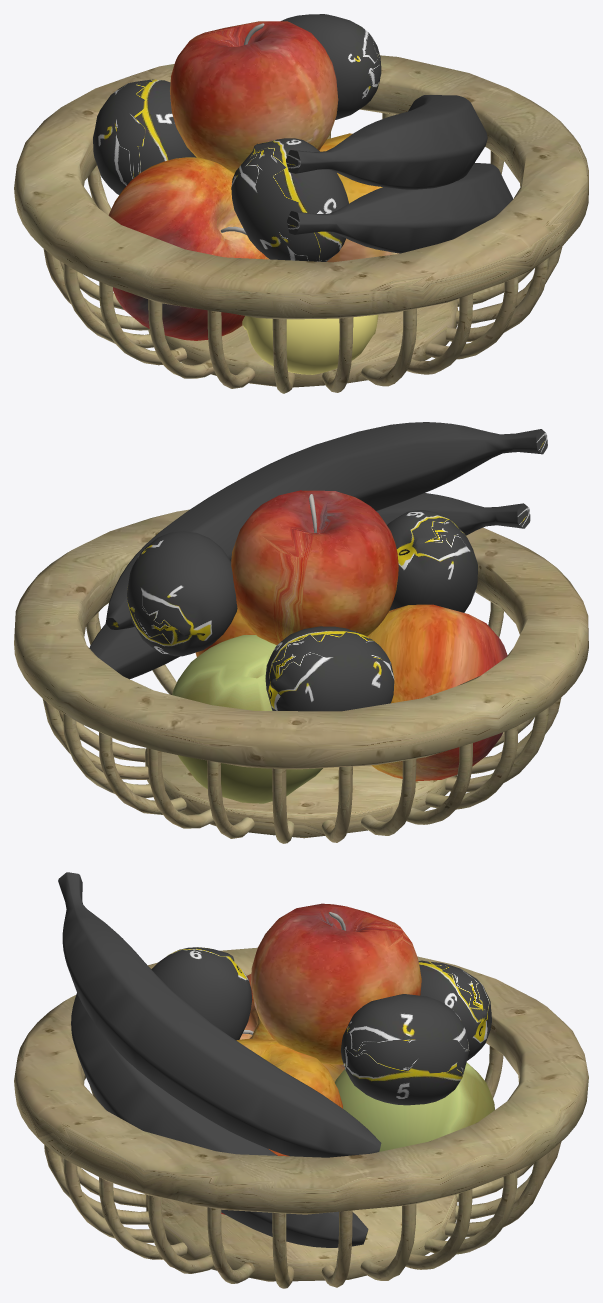
The picture shows the model from 3 angles, top to bottom: view 1: azimuth 30°, elevation 25°; view 2: azimuth 150°, elevation 25°; view 3: azimuth 270°, elevation 25°; orthographic projection.
Size of the model in its own units: 0.2393 by 0.1364 by 0.2402.
Materials: 7 (5 with a texture image).
